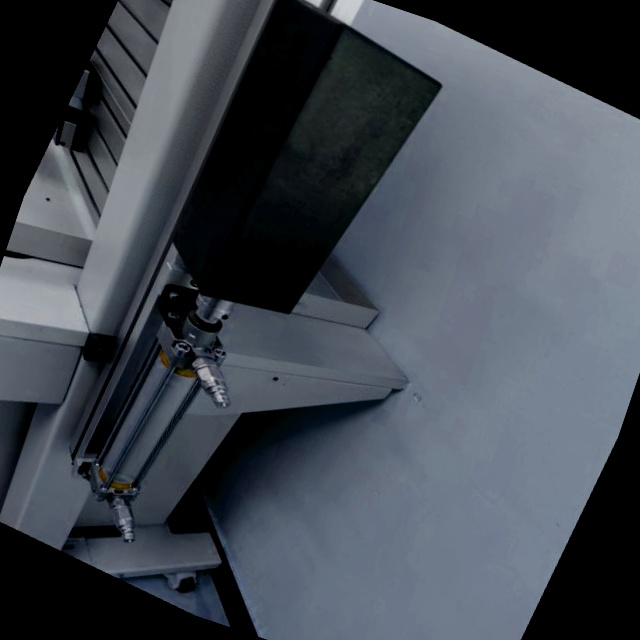load: (0, 0, 489, 626)
